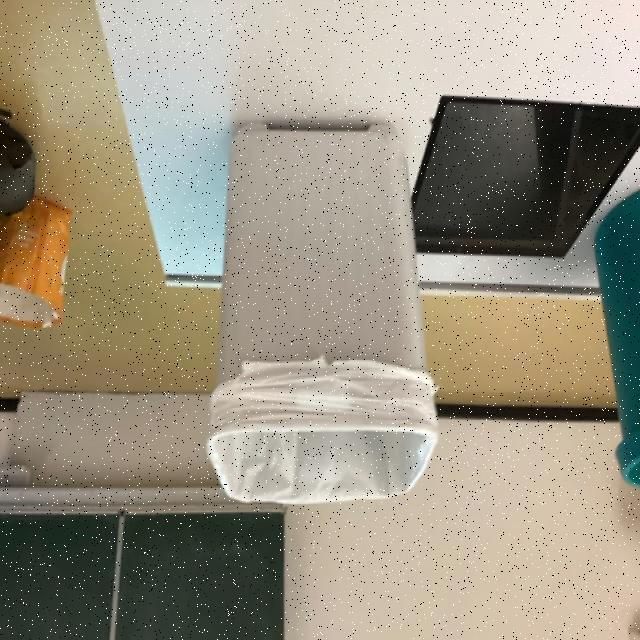garbage container: (200, 102, 437, 529), (600, 188, 640, 524)
